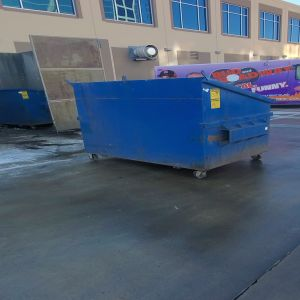Dumpster: (76, 94, 274, 178)
